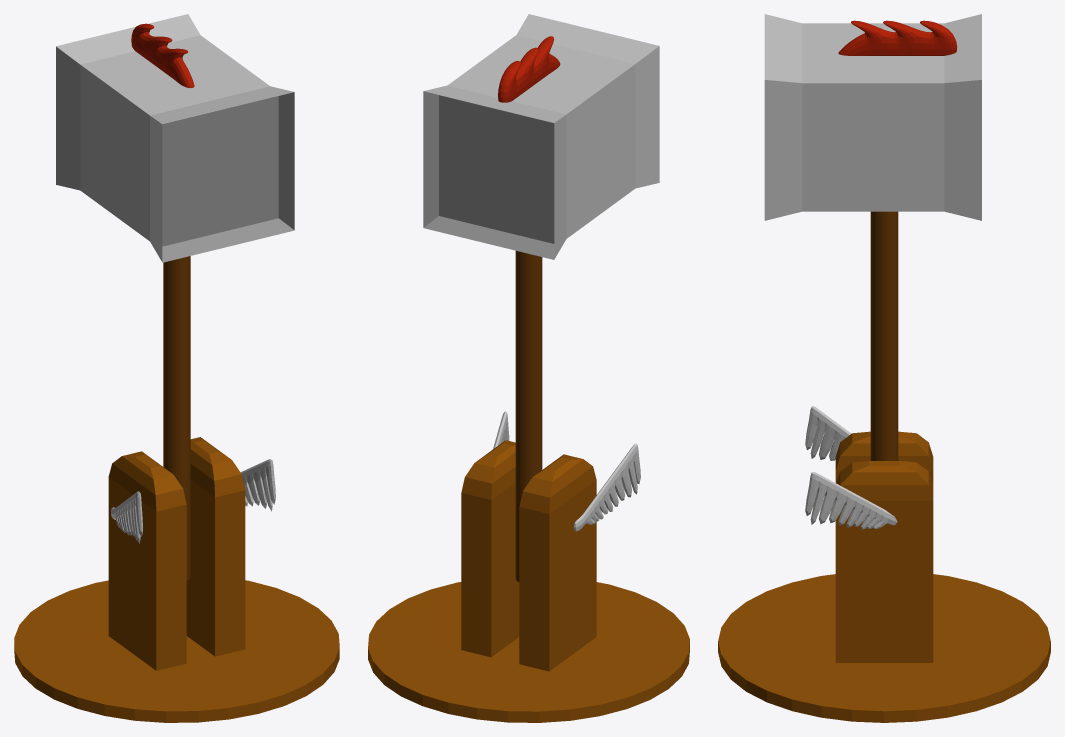
The model's file is Hammer (1).fbx.
3 renders of one model, left to right at view 1: azimuth 30°, elevation 25°; view 2: azimuth 150°, elevation 25°; view 3: azimuth 270°, elevation 25°, orthographic. The views are drawn at different scales.
Visible parts, largest first — view 1: Cube.007, Cube.002, Cylinder.001, Cube.006, Cube.008; view 2: Cube.007, Cube.002, Cylinder.001, Cube.006, Cube.008; view 3: Cube.007, Cube.002, Cylinder.001, Cube.006, Cube.008.
Part boxes in pixels (left/top/right/bottom): Cube.007: left=14, top=437, right=339, bottom=722; Cube.002: left=56, top=14, right=294, bottom=262; Cylinder.001: left=163, top=256, right=190, bottom=580; Cube.006: left=111, top=459, right=275, bottom=543; Cube.008: left=131, top=23, right=194, bottom=88; Cube.007: left=368, top=440, right=689, bottom=722; Cube.002: left=423, top=14, right=659, bottom=259; Cylinder.001: left=515, top=251, right=542, bottom=581; Cube.006: left=493, top=411, right=640, bottom=531; Cube.008: left=498, top=36, right=560, bottom=102; Cube.007: left=718, top=431, right=1050, bottom=722; Cube.002: left=764, top=14, right=981, bottom=220; Cylinder.001: left=870, top=211, right=898, bottom=460; Cube.006: left=805, top=406, right=897, bottom=529; Cube.008: left=838, top=20, right=957, bottom=55.
Size of the model in its own units: 1.26 by 1.26 by 2.62.
